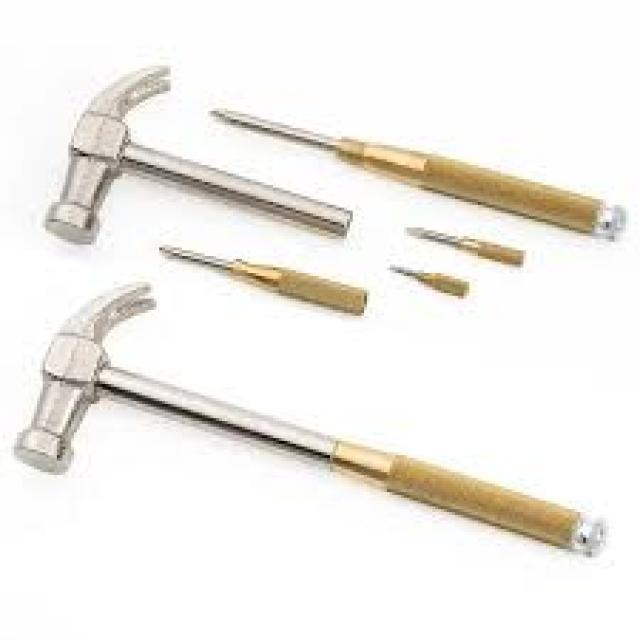Palu: (19, 283, 608, 566), (48, 63, 352, 253)
